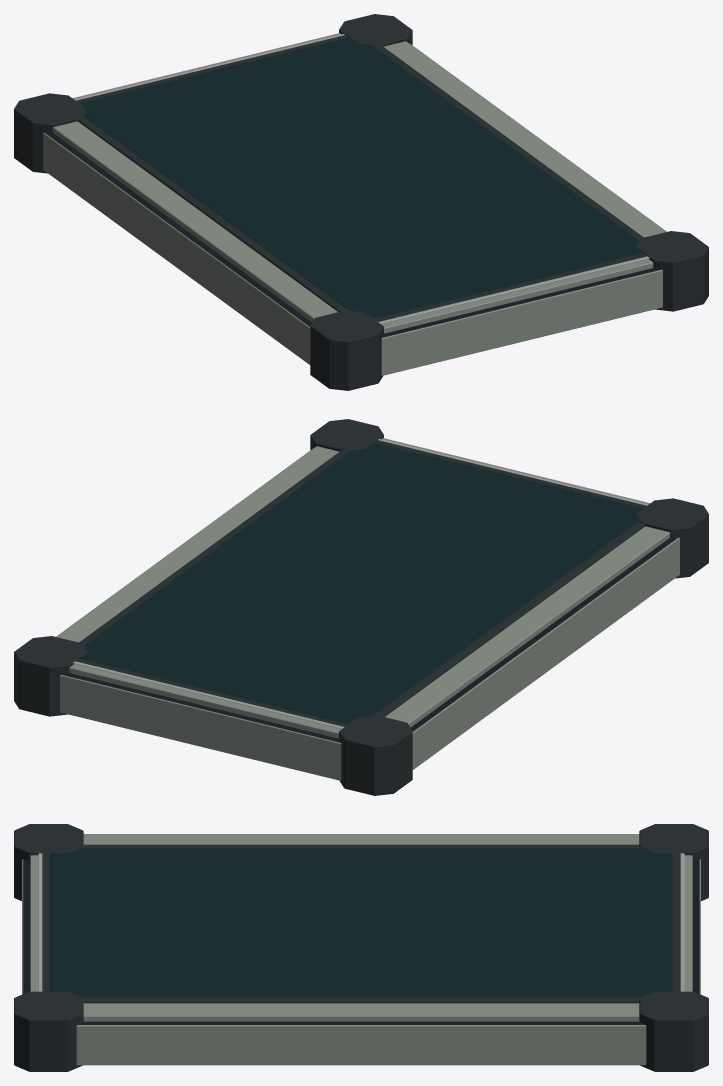
File: rv_terminal.glb
3 renders of one model, top to bottom at view 1: azimuth 30°, elevation 25°; view 2: azimuth 150°, elevation 25°; view 3: azimuth 270°, elevation 25°, orthographic. The views are drawn at different scales.
Parts seen in each view (by area): view 1: RVTerminal.003; view 2: RVTerminal.003; view 3: RVTerminal.003.
Boxes of the visible parts, box(x1,y1,x2,y2) form: RVTerminal.003: box(14, 14, 708, 390); RVTerminal.003: box(14, 419, 708, 795); RVTerminal.003: box(14, 824, 708, 1071).
Bounding box in the file's own units: 0.4 × 0.05 × 0.6.
